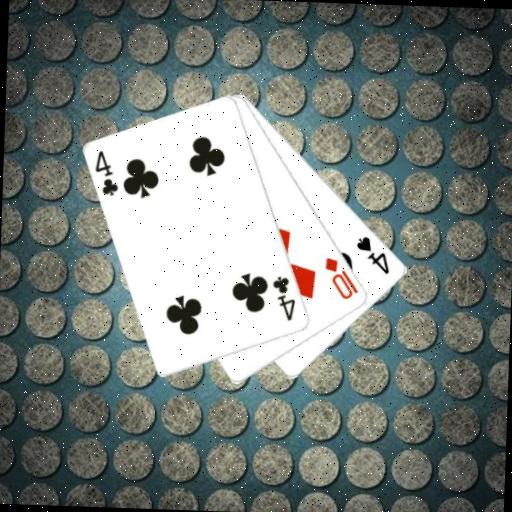10D: (321, 254, 361, 301)
4C: (91, 147, 121, 198), (268, 272, 298, 322)
4S: (352, 233, 392, 276)
